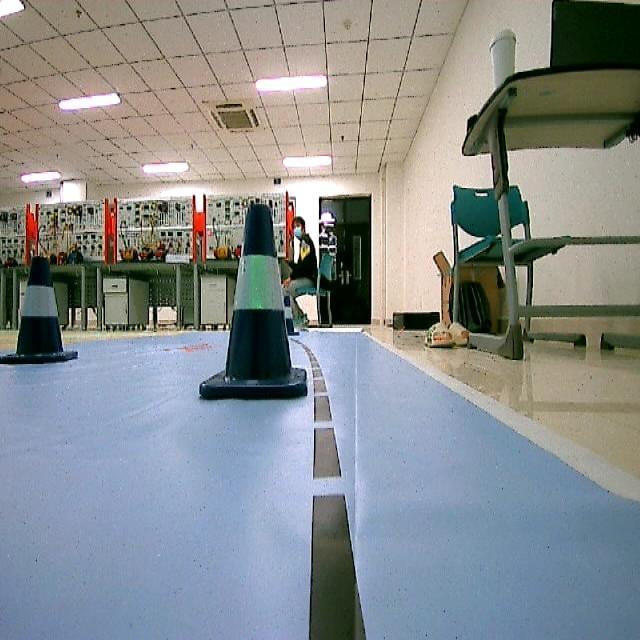obstacle: (188, 198, 304, 400), (0, 256, 80, 369)
